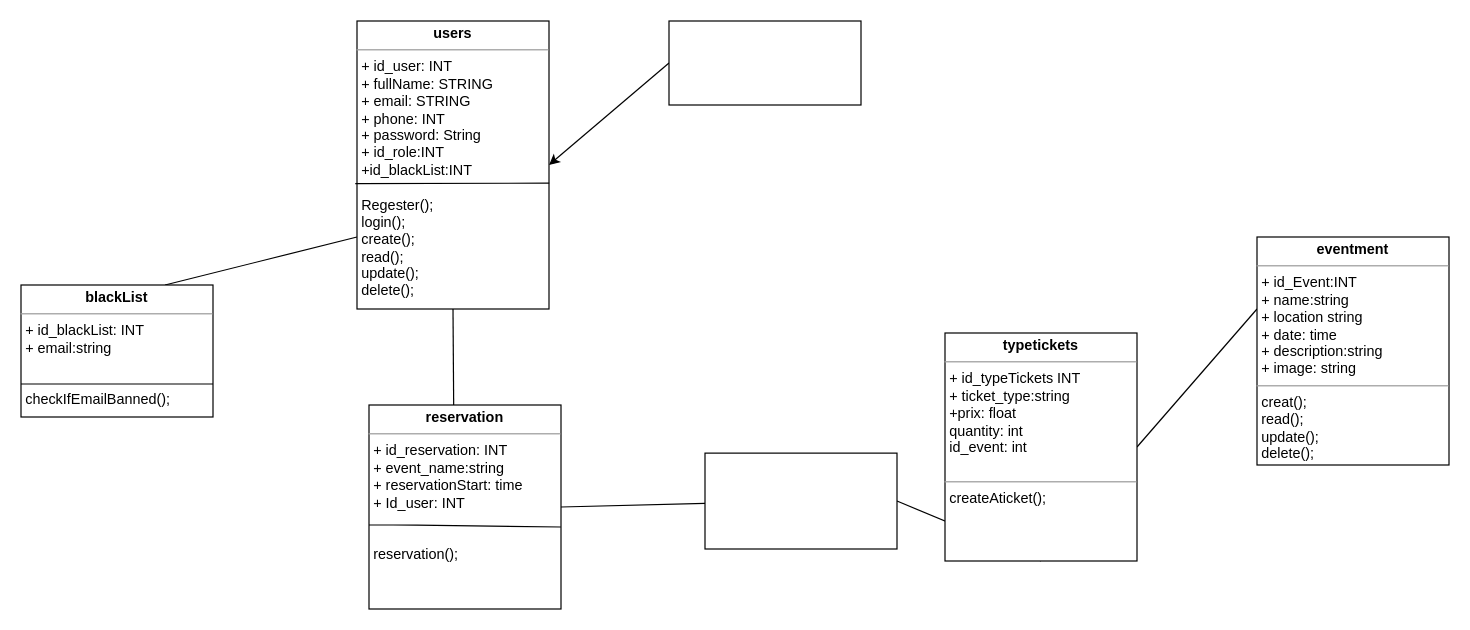
Some shapes in this 1470 by 630 pixel diagram are drawn without their labels. The shapes that lost their labels are listed below. From the top down, each one's centre as x and y in pixels, then its label:
At (x=764, y=62): "role + id_role + role_type".
At (x=800, y=500): "items + id_item: INT + id_res:INT +id_ticket:INT".
